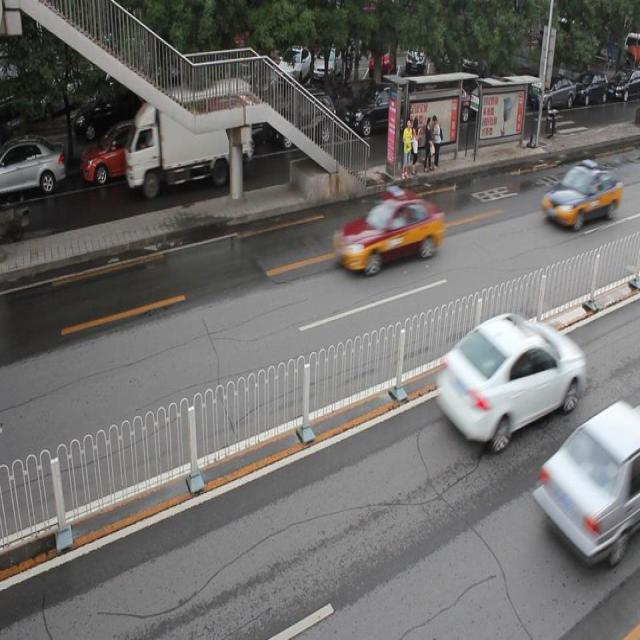bus: (124, 78, 254, 188)
car: (434, 313, 582, 450), (534, 409, 640, 564), (332, 187, 445, 274), (174, 106, 266, 169), (80, 122, 164, 184), (542, 160, 615, 230), (268, 84, 333, 149), (342, 79, 412, 139), (1, 137, 66, 197)
